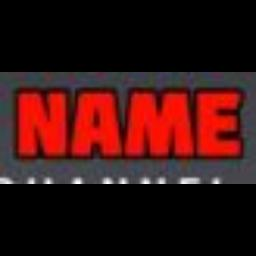a: (70, 87, 122, 157)
m: (125, 86, 197, 160), (197, 86, 245, 158)
n: (13, 86, 69, 158)
